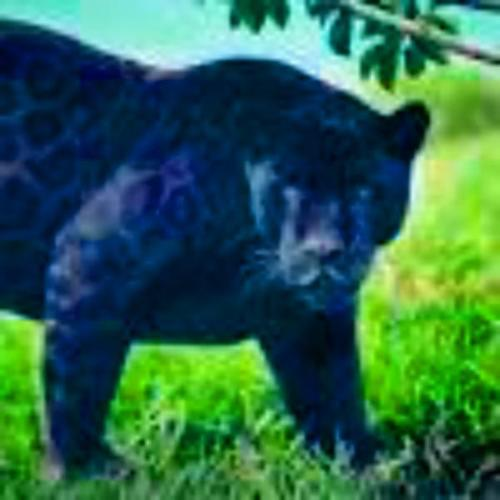panther-endangered: (0, 14, 430, 477)
